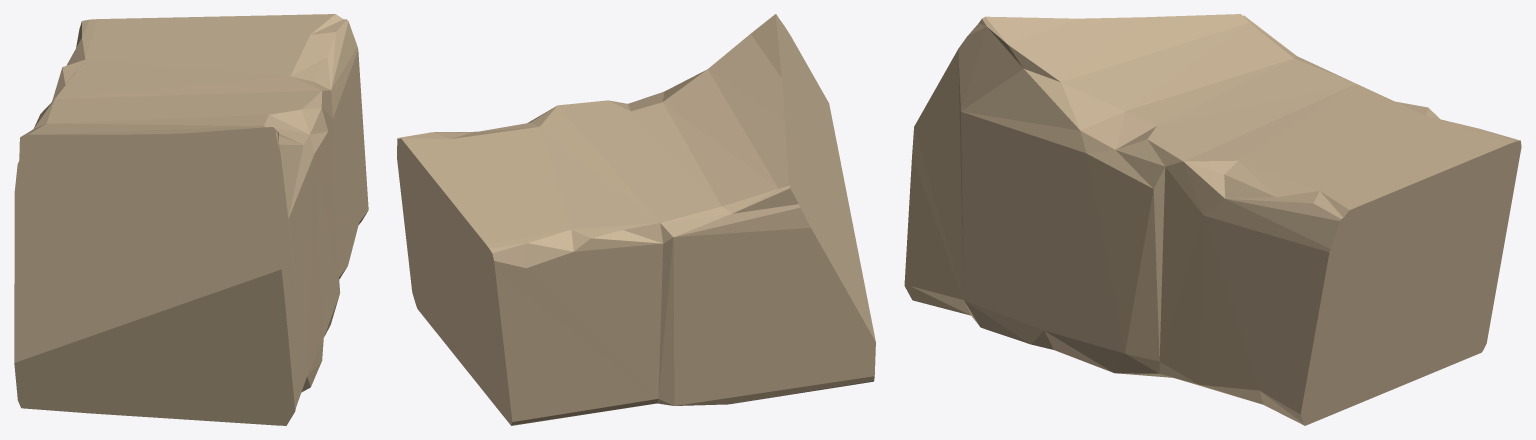
File: SM_stone_debris_08.fbx
The picture shows the model from 3 angles, left to right: view 1: azimuth 30°, elevation 25°; view 2: azimuth 150°, elevation 25°; view 3: azimuth 270°, elevation 25°; orthographic projection. The views are drawn at different scales.
Parts seen in each view (by area): view 1: stone_debris_08; view 2: stone_debris_08; view 3: stone_debris_08.
Part boxes in pixels (x1,y1,x2,y2): stone_debris_08: [14, 14, 368, 425]; stone_debris_08: [397, 14, 875, 425]; stone_debris_08: [904, 14, 1521, 425].
Bounding box in the file's own units: 310 × 204 × 357.
